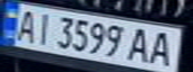3: (51, 14, 75, 50)
5: (69, 17, 90, 53)
9: (103, 22, 130, 60), (84, 20, 109, 56)
A: (145, 28, 181, 66), (124, 25, 157, 64), (9, 7, 42, 43)
I: (30, 10, 57, 46)
